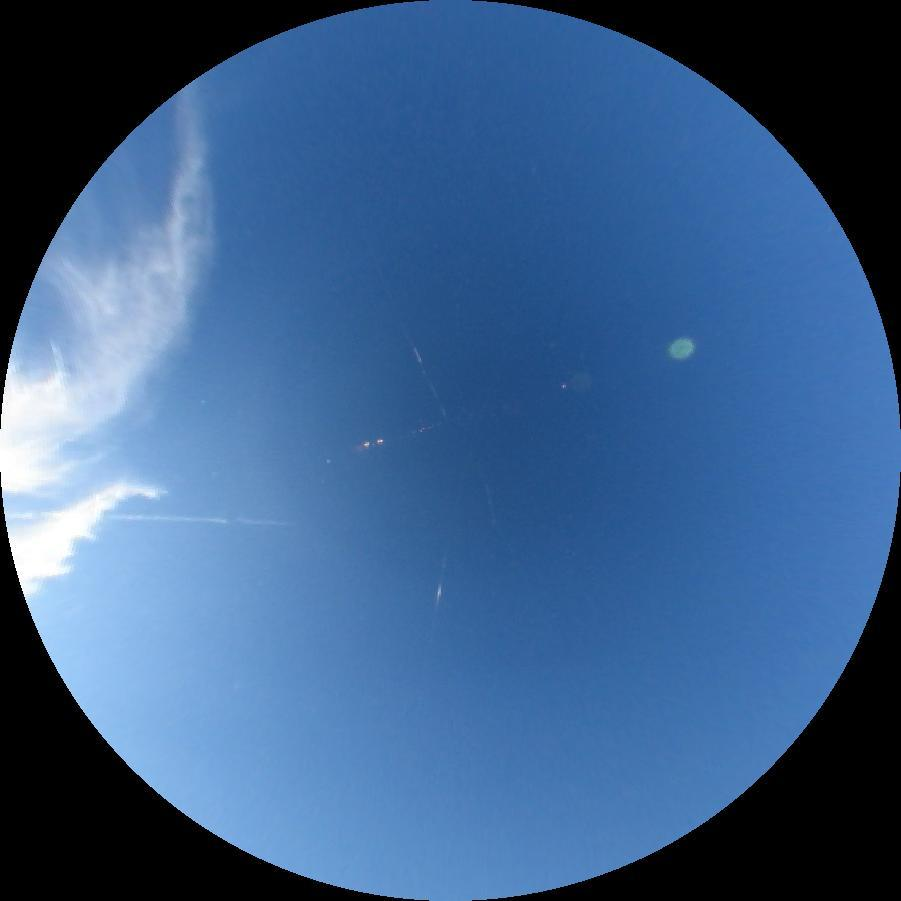parasite: (6, 510, 297, 526), (406, 338, 451, 422), (427, 549, 449, 637)
